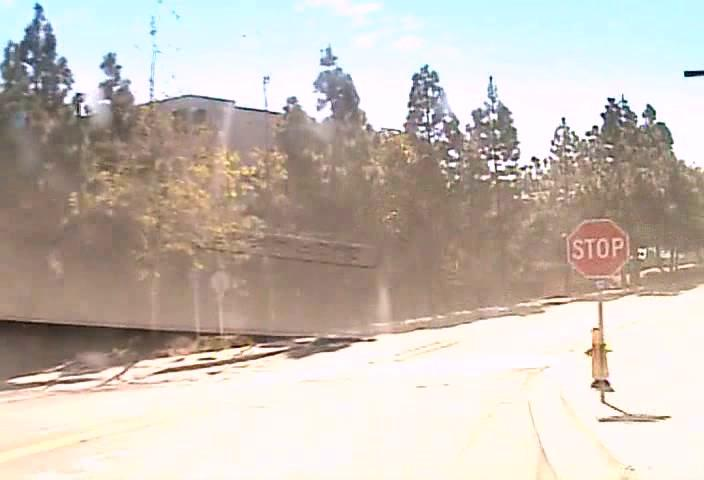stop: (566, 218, 629, 278)
